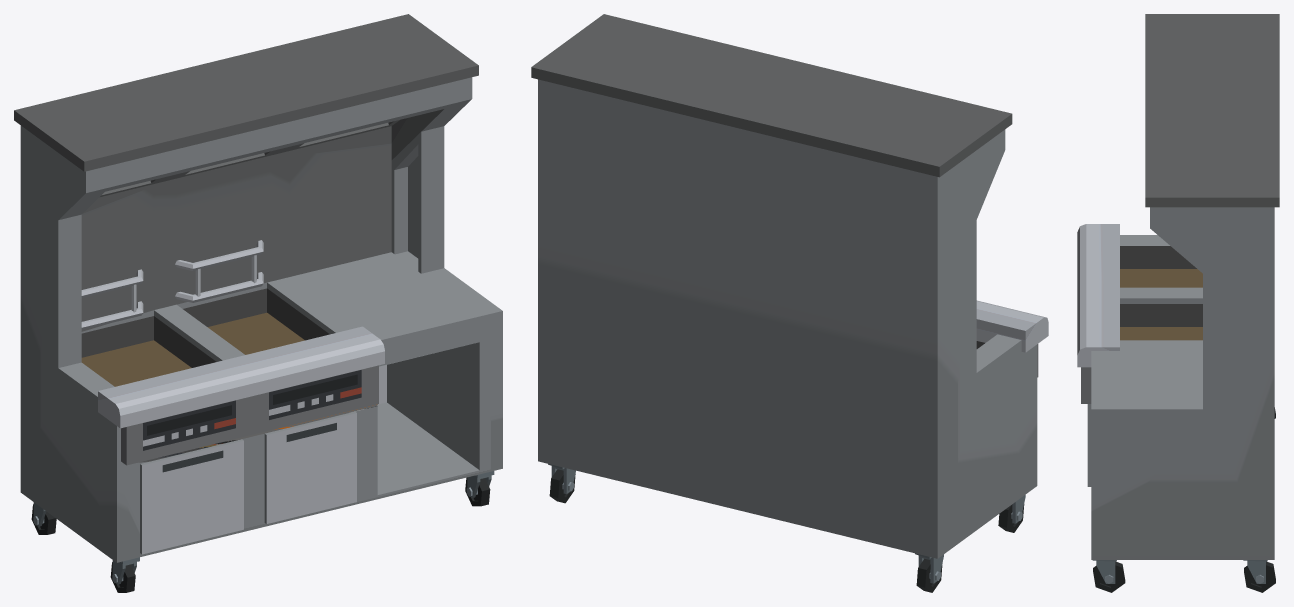
File: SM_Prop_Kitchen_Deep_Fryer_01.019.obj
3 renders of one model, left to right at view 1: azimuth 30°, elevation 25°; view 2: azimuth 150°, elevation 25°; view 3: azimuth 270°, elevation 25°, orthographic. The views are drawn at different scales.
Visible parts, largest first — view 1: SM_Prop_Kitchen_Deep_Fryer_01.019_0; view 2: SM_Prop_Kitchen_Deep_Fryer_01.019_0; view 3: SM_Prop_Kitchen_Deep_Fryer_01.019_0.
Part boxes in pixels (box(x1,y1,x2,y2)): SM_Prop_Kitchen_Deep_Fryer_01.019_0: box(14, 14, 502, 592); SM_Prop_Kitchen_Deep_Fryer_01.019_0: box(531, 14, 1048, 592); SM_Prop_Kitchen_Deep_Fryer_01.019_0: box(1077, 14, 1279, 592).
Size of the model in its own units: 2.22 by 2.27 by 1.03.
Materials: 1 (1 with a texture image).
